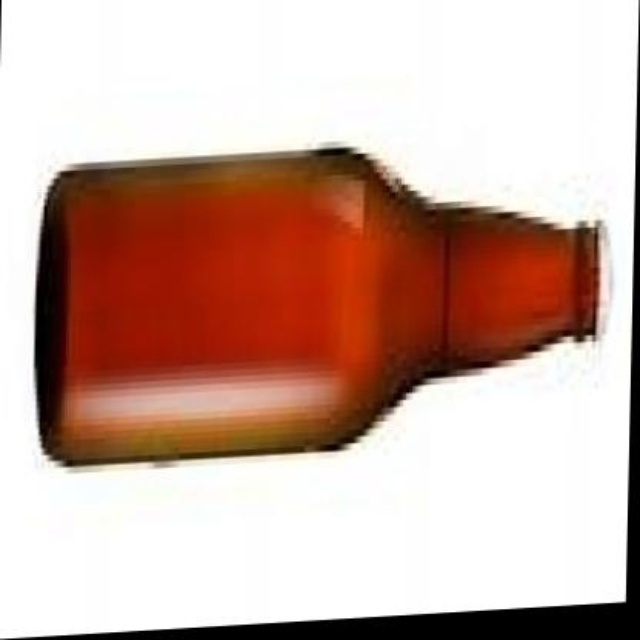trash: (35, 148, 597, 463)
